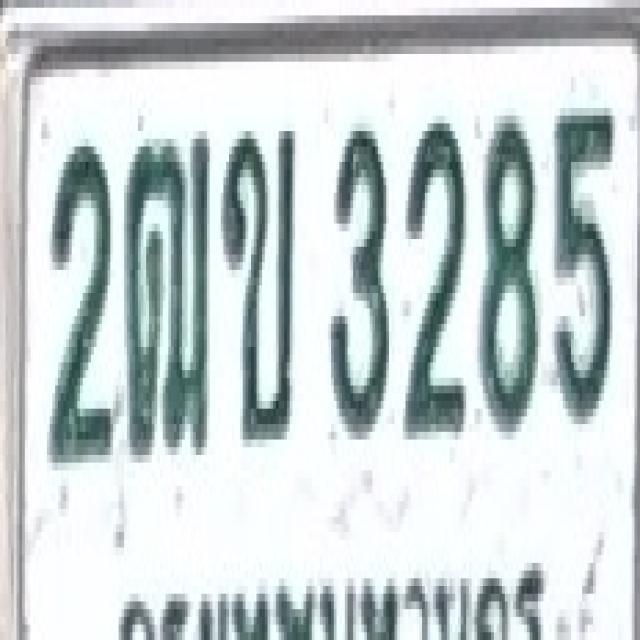2: (47, 138, 113, 462), (403, 112, 466, 436)
3: (328, 120, 389, 436)
5: (553, 100, 614, 424)
8: (477, 108, 538, 432)
A02: (221, 120, 295, 443)
A18: (123, 127, 211, 459)
